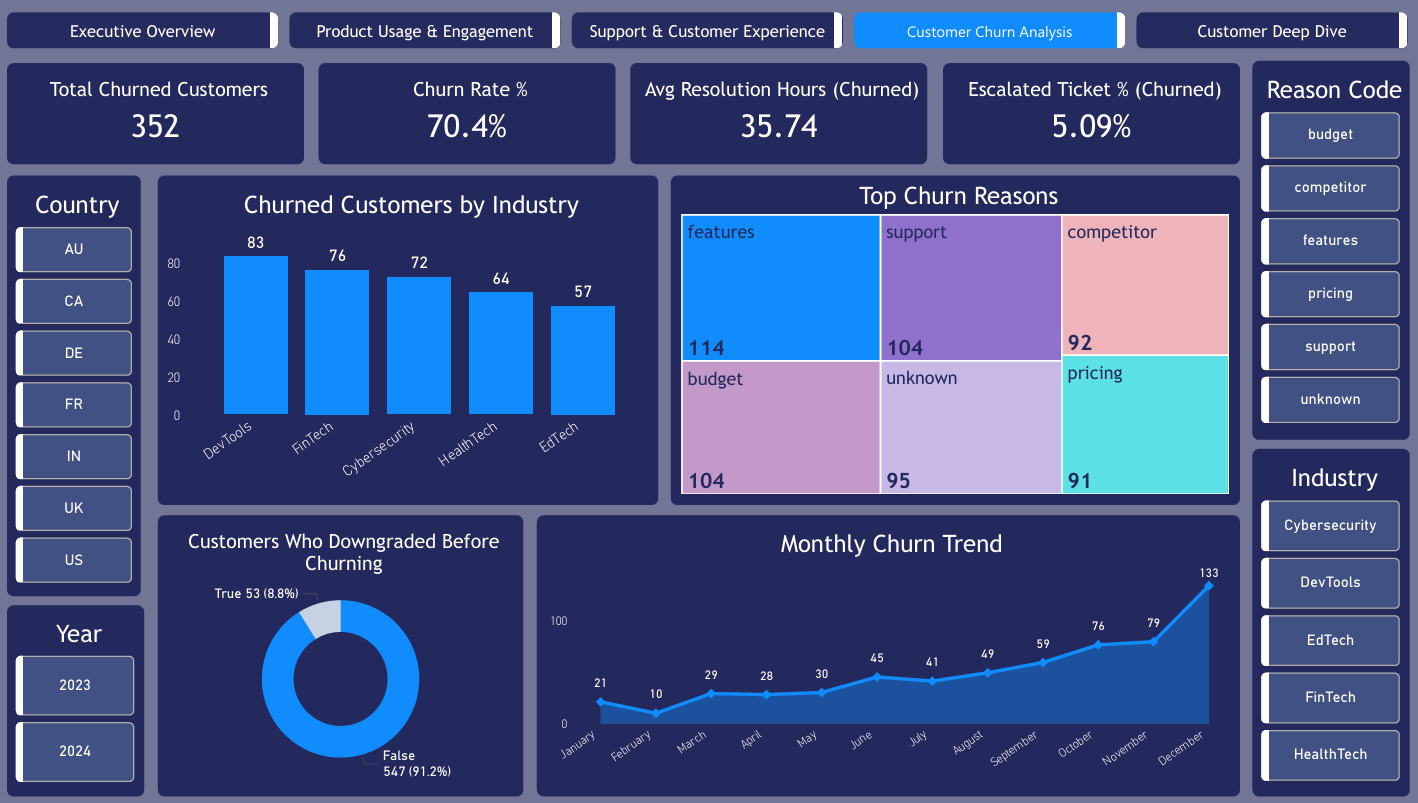

Layout of this report page (visuals, bound fields, positions):
{"tool":"powerbi","page":{"name":"Customer Churn Analysis ","canvas":[1280,720],"ordinal":3},"visuals":[{"type":"card","title":"Total Churned Customers","fields":{"Values":["DAX Measures.Churned Customers"]},"box":[15.7,55.7,263.8,90.8],"z":0},{"type":"card","title":"Avg Resolution Hours (Churned)","fields":{"Values":["DAX Measures.Avg Resolution Time (Churned)"]},"box":[569.9,55.7,263.8,90.8],"z":1000},{"type":"card","title":"Churn Rate %","fields":{"Values":["DAX Measures.Churn Rate"]},"box":[292.8,55.7,263.8,90.8],"z":2000},{"type":"card","title":"Escalated Ticket % (Churned)","fields":{"Values":["DAX Measures.Escalated Ticket % (Churned)"]},"box":[848.3,55.7,263.8,90.8],"z":3000},{"type":"clusteredColumnChart","title":"Churned Customers by Industry","fields":{"Category":["customer_accounts.industry"],"Y":["DAX Measures.Churned Customers"]},"box":[149.6,155.6,445.2,293.2],"z":4000},{"type":"treemap","title":"Top Churn Reasons","fields":{"Group":["customer_churn_details.reason_code"],"Values":["CountNonNull(customer_churn_details.reason_code)"]},"box":[605.6,155.6,506.7,293.2],"z":5000},{"type":"donutChart","title":"Customers Who Downgraded Before Churning","fields":{"Category":["customer_churn_details.preceding_downgrade_flag"],"Y":["CountNonNull(customer_churn_details.account_id)"]},"box":[149.6,458.4,325.7,249.7],"z":6000},{"type":"lineChart","title":"Monthly Churn Trend","fields":{"Category":["customer_churn_details.churn_date.Variation.Date Hierarchy.Month"],"Y":["customer_churn_details.Churn Count"]},"box":[487.4,458.4,624.9,249.7],"z":7000},{"type":"advancedSlicerVisual","title":"Reason Code","fields":{"Values":["customer_churn_details.reason_code"]},"box":[1123.2,54.3,139.9,336.6],"z":8000},{"type":"advancedSlicerVisual","title":"Country","fields":{"Values":["customer_accounts.country"]},"box":[15.7,155.6,119.4,374],"z":9000},{"type":"advancedSlicerVisual","fields":{"Values":["customer_churn_details.churn_date.Variation.Date Hierarchy.Year"]},"box":[15.7,538.1,121.9,170.1],"z":10000},{"type":"advancedSlicerVisual","title":"Industry","fields":{"Values":["customer_accounts.industry"]},"box":[1123.2,399.3,139.9,308.8],"z":11000},{"type":"pageNavigator","box":[15.7,10.9,1247.5,32.6],"z":12000}]}

Visuals, with their boxes in screenshot pixels (x1, y1, x2, y2), scaled from the page's 1280x720 canvas onto the 1418x803 screenshot:
"Total Churned Customers" card: detection(17, 62, 310, 163)
"Avg Resolution Hours (Churned)" card: detection(631, 62, 924, 163)
"Churn Rate %" card: detection(324, 62, 617, 163)
"Escalated Ticket % (Churned)" card: detection(940, 62, 1232, 163)
"Churned Customers by Industry" clusteredColumnChart: detection(166, 174, 659, 501)
"Top Churn Reasons" treemap: detection(671, 174, 1232, 501)
"Customers Who Downgraded Before Churning" donutChart: detection(166, 511, 527, 790)
"Monthly Churn Trend" lineChart: detection(540, 511, 1232, 790)
"Reason Code" advancedSlicerVisual: detection(1244, 61, 1399, 436)
"Country" advancedSlicerVisual: detection(17, 174, 150, 591)
advancedSlicerVisual - customer_churn_details.churn_date.Variation.Date Hierarchy.Year: detection(17, 600, 152, 790)
"Industry" advancedSlicerVisual: detection(1244, 445, 1399, 790)
pageNavigator: detection(17, 12, 1399, 49)
